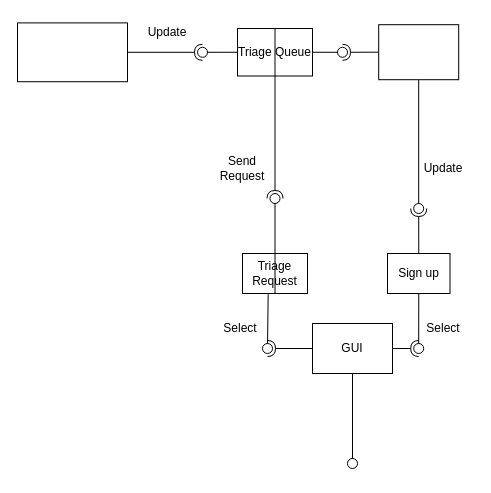
Image size: 491x493. Some labels were removed from this diagram. Each missing label, with the centre of its shape:
Appointments DB: (72,52)
Patient Info DB: (418,52)
